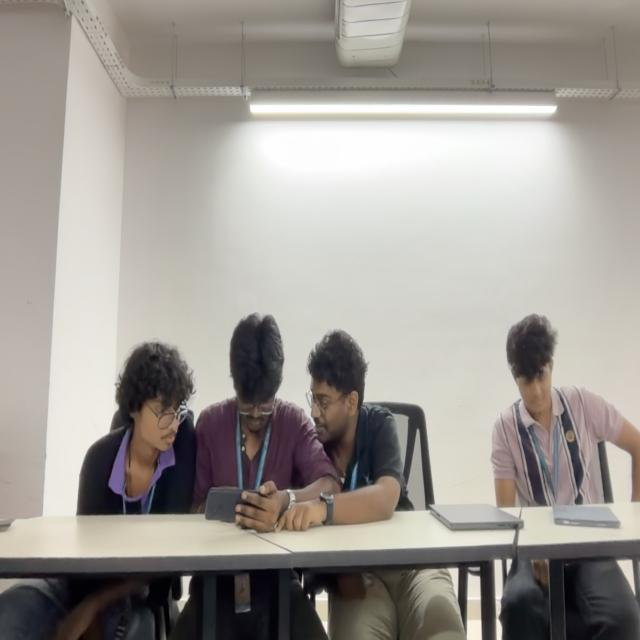Isolated: (490, 313, 640, 506)
socializing: (77, 316, 413, 530)
